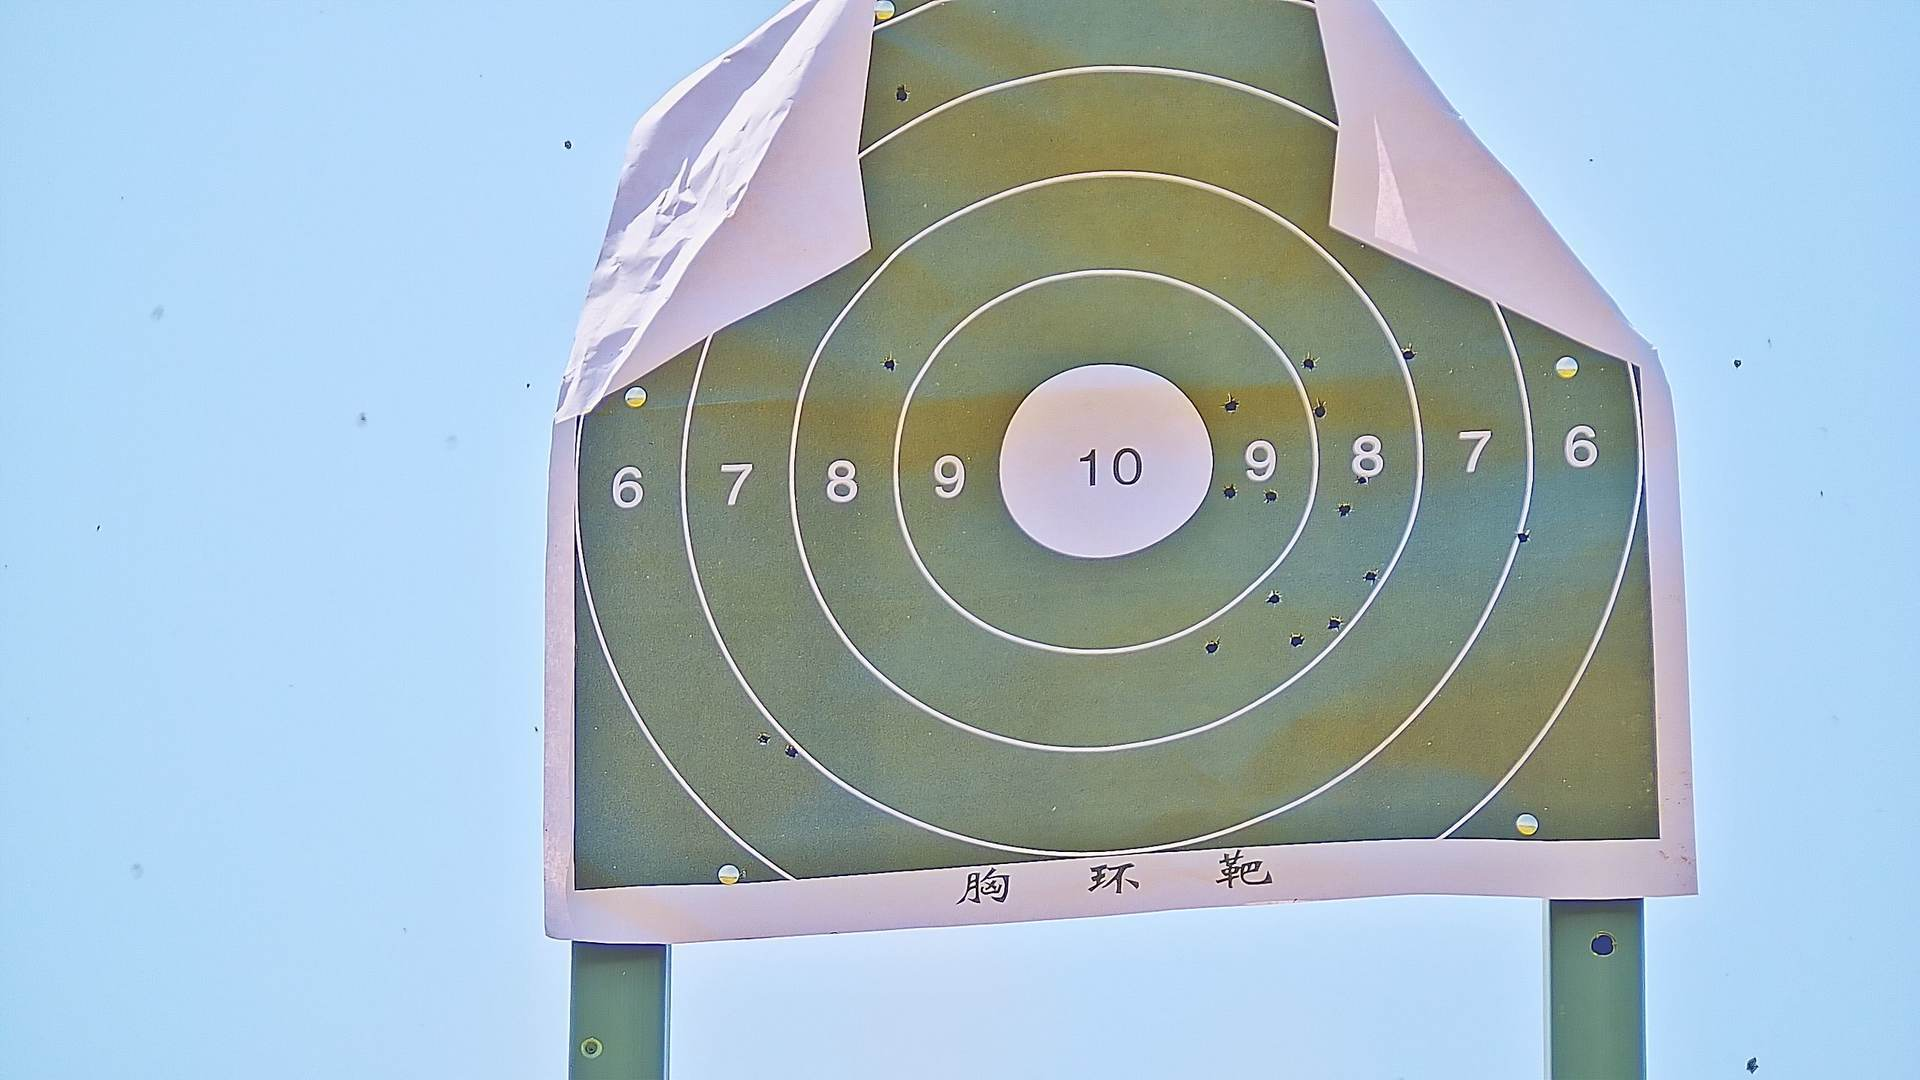hole: (893, 86, 911, 102), (882, 356, 898, 372), (1362, 568, 1378, 584), (1313, 402, 1328, 419), (785, 738, 796, 757), (1290, 633, 1304, 647), (1356, 472, 1370, 487), (1222, 484, 1236, 500), (1224, 397, 1237, 411), (1205, 640, 1218, 654), (1302, 355, 1315, 369), (1516, 529, 1530, 543), (1265, 487, 1276, 502), (1402, 347, 1418, 359), (1338, 500, 1349, 517), (1267, 591, 1280, 604), (758, 729, 770, 742), (1328, 618, 1340, 632)
kernel: (1100, 469, 1106, 472)
target: (575, 1, 1669, 890)
ten: (992, 363, 1213, 564)
